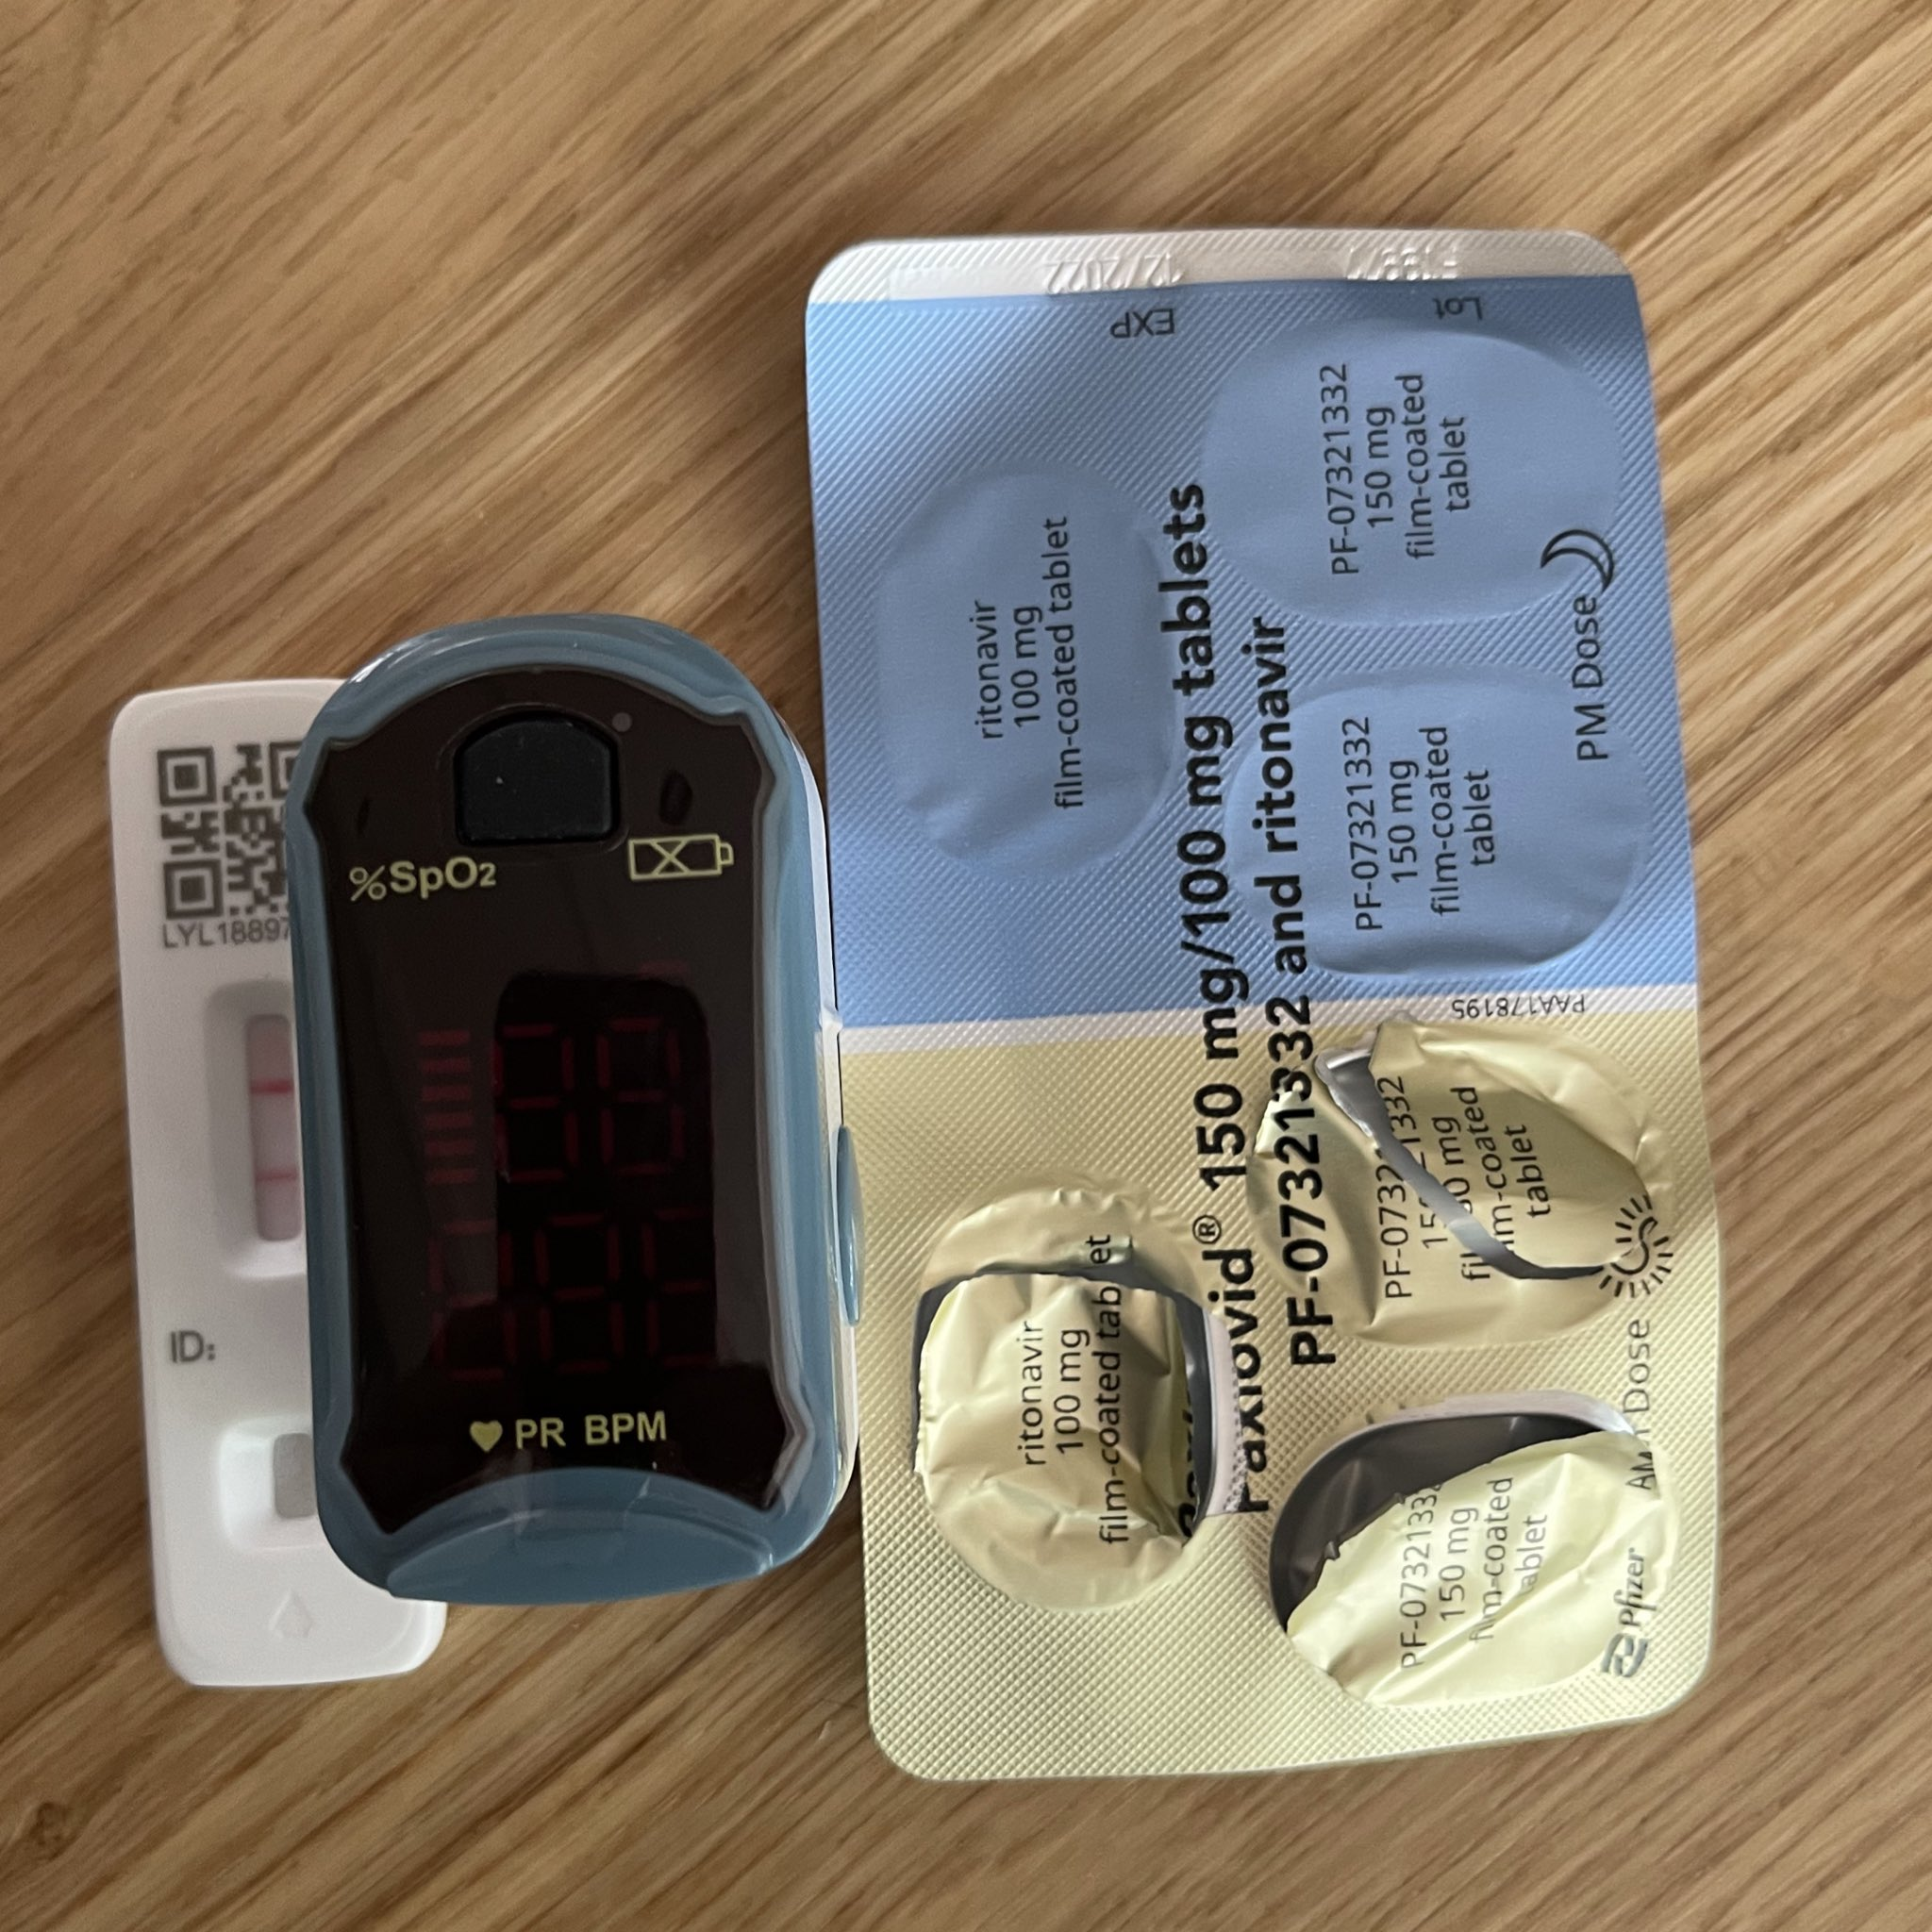positive: (225, 998, 303, 1251)
